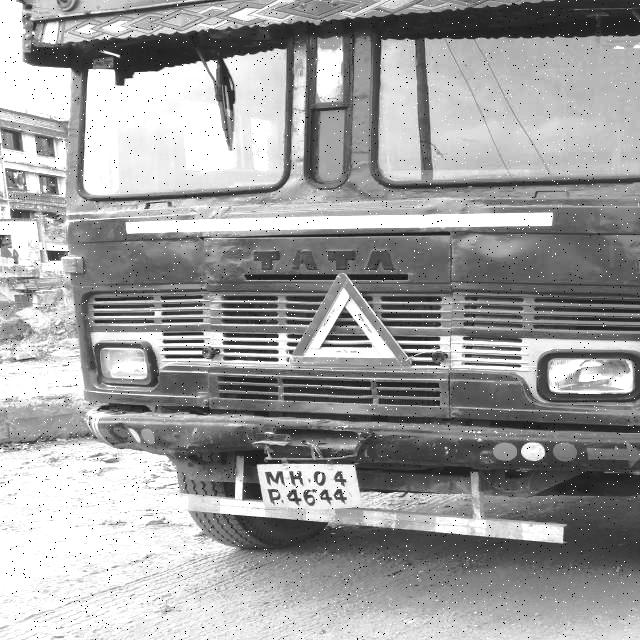HCV: (37, 6, 639, 572)
